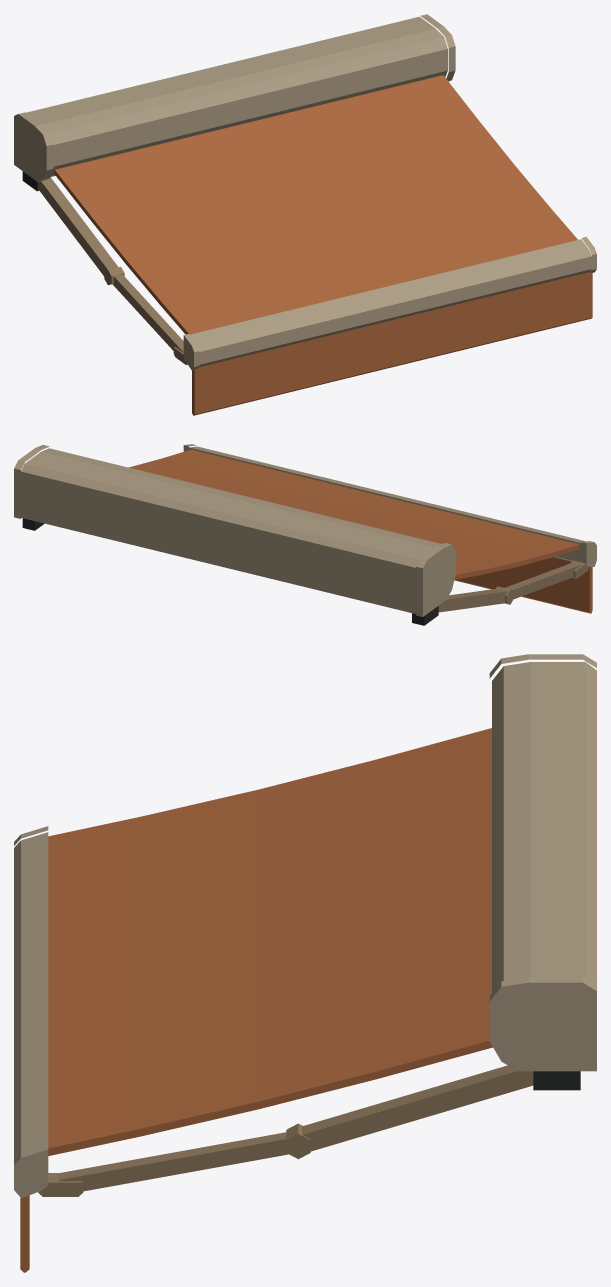
Rendered from awning.glb.
3 views of the same model, one above another, from view 1: azimuth 30°, elevation 25°; view 2: azimuth 150°, elevation 25°; view 3: azimuth 270°, elevation 25° (orthographic). The views are drawn at different scales.
Visible parts, largest first — view 1: retractable-box-awning, valance; view 2: retractable-box-awning, valance; view 3: retractable-box-awning.
Boxes of the visible parts, x1,y1,x2,y2 form: retractable-box-awning: (14,14,596,370); valance: (192,269,592,415); retractable-box-awning: (14,444,596,625); valance: (454,557,592,613); retractable-box-awning: (14,654,596,1198).
Bounding box in the file's own units: 2 × 0.8361 × 1.5.
